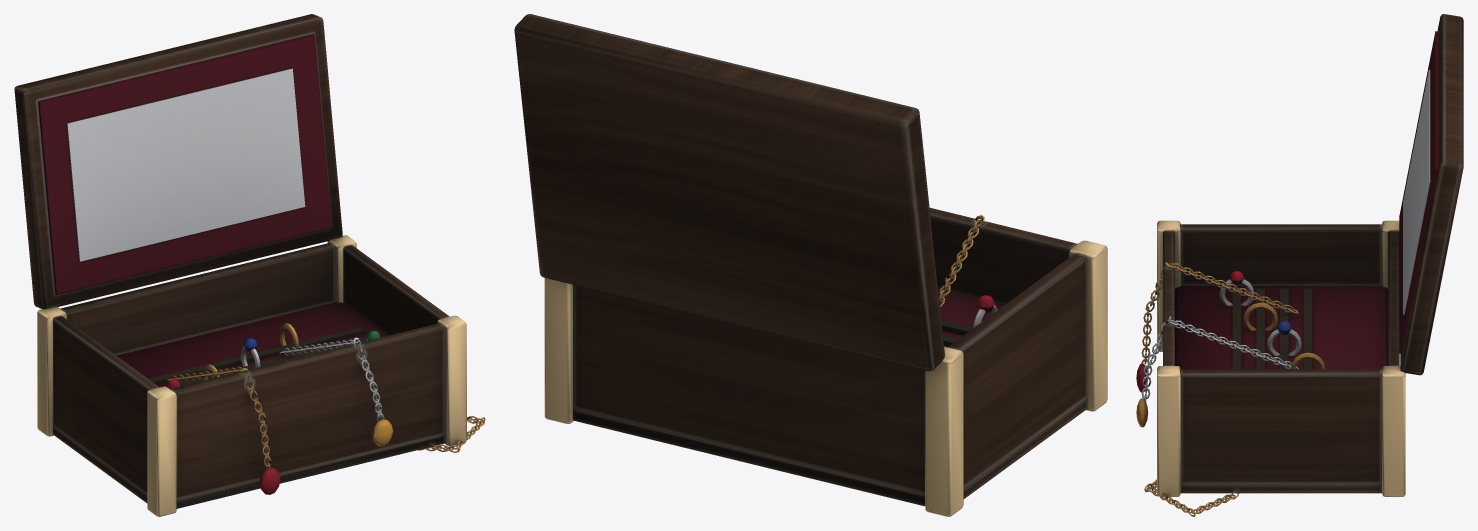
Rendered from JewelryBox.fbx.
The picture shows the model from 3 angles, left to right: view 1: azimuth 30°, elevation 25°; view 2: azimuth 150°, elevation 25°; view 3: azimuth 270°, elevation 25°; orthographic projection. The views are drawn at different scales.
Visible parts, largest first — view 1: JewelryBox; view 2: JewelryBox; view 3: JewelryBox.
Part boxes in pixels (left/top/right/bottom): JewelryBox: left=14, top=14, right=485, bottom=516; JewelryBox: left=514, top=14, right=1107, bottom=516; JewelryBox: left=1136, top=14, right=1463, bottom=516.
Size of the model in its own units: 138 by 125 by 111.
